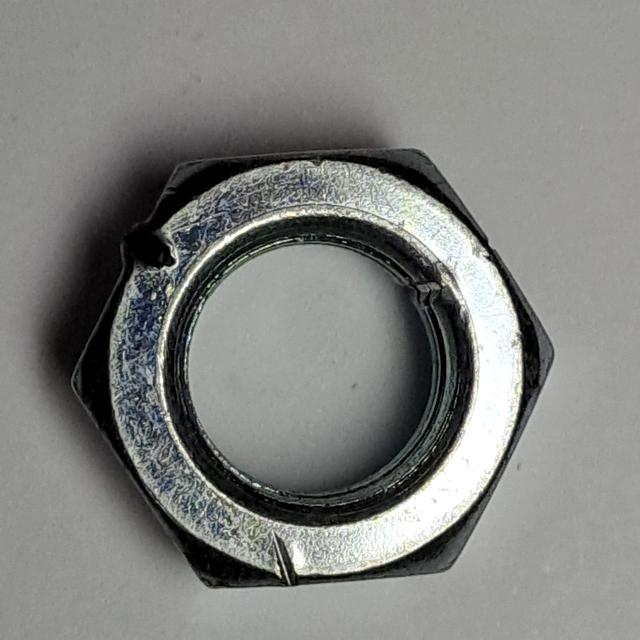Scratches: (62, 132, 566, 601)
